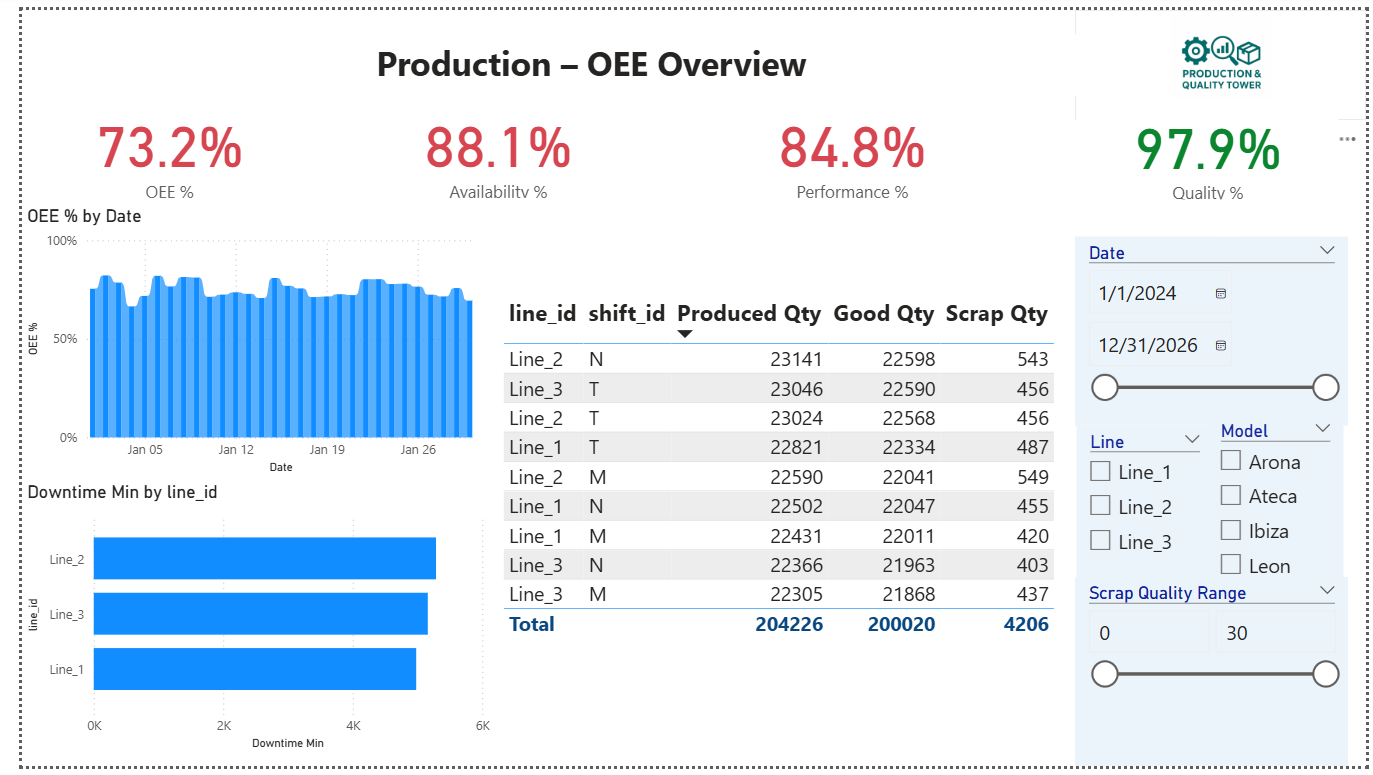

Layout of this report page (visuals, bound fields, positions):
{"tool":"powerbi","page":{"name":"Production (OEE)","canvas":[1280,720],"ordinal":1},"visuals":[{"type":"ribbonChart","fields":{"Y":["_Measures.OEE %"],"Category":["Dim_Date.Date"]},"box":[0,185.7,450,260],"z":0},{"type":"barChart","fields":{"Category":["Production_Shifts.line_id"],"Y":["_Measures.Downtime Min"]},"box":[0,448.6,450,260],"z":1000},{"type":"tableEx","fields":{"Values":["Production_Shifts.line_id","Production_Shifts.shift_id","_Measures.Produced Qty","_Measures.Good Qty","_Measures.Scrap Qty"]},"box":[452.9,267.1,544.3,361.4],"z":2000},{"type":"slicer","fields":{"Values":["Dim_Date.Date"]},"box":[1002.9,215.7,260,180],"z":4000},{"type":"slicer","fields":{"Values":["Dim_Model.model_id"]},"box":[1128.6,385.7,130,180],"z":5000},{"type":"slicer","fields":{"Values":["Production_Shifts.line_id"]},"box":[1004.3,395.7,130,180],"z":6000},{"type":"slicer","fields":{"Values":["Production_Shifts.scrap_qty"]},"box":[1002.9,540,260,180],"z":7000},{"type":"image","box":[1002.8,0,277.2,104.8],"z":8000},{"type":"textbox","box":[50,22.9,984.3,58.6],"z":9000},{"type":"card","fields":{"Values":["_Measures.OEE %"]},"box":[39.8,84.9,200.3,99.5],"z":10000},{"type":"card","fields":{"Values":["_Measures.Availability %"]},"box":[328.5,84.9,249.4,99.5],"z":11000},{"type":"card","fields":{"Values":["_Measures.Performance %"]},"box":[666.3,84.9,249.4,99.5],"z":12000},{"type":"card","fields":{"Values":["_Measures.Quality %"]},"box":[1004.1,86.2,249.4,99.5],"z":13000}]}

Visuals, with their boxes in screenshot pixels (x1, y1, x2, y2), scaled from the page's 1280x720 canvas onto the 1373x775 screenshot:
ribbonChart - _Measures.OEE % x Dim_Date.Date: [0,200,483,480]
barChart - Production_Shifts.line_id x _Measures.Downtime Min: [0,483,483,763]
tableEx - Production_Shifts.line_id x Production_Shifts.shift_id: [486,288,1070,677]
slicer - Dim_Date.Date: [1076,232,1355,426]
slicer - Dim_Model.model_id: [1211,415,1350,609]
slicer - Production_Shifts.line_id: [1077,426,1217,620]
slicer - Production_Shifts.scrap_qty: [1076,581,1355,774]
image: [1076,0,1372,113]
textbox: [54,25,1109,88]
card - _Measures.OEE %: [43,91,258,198]
card - _Measures.Availability %: [352,91,620,198]
card - _Measures.Performance %: [715,91,982,198]
card - _Measures.Quality %: [1077,93,1345,200]
